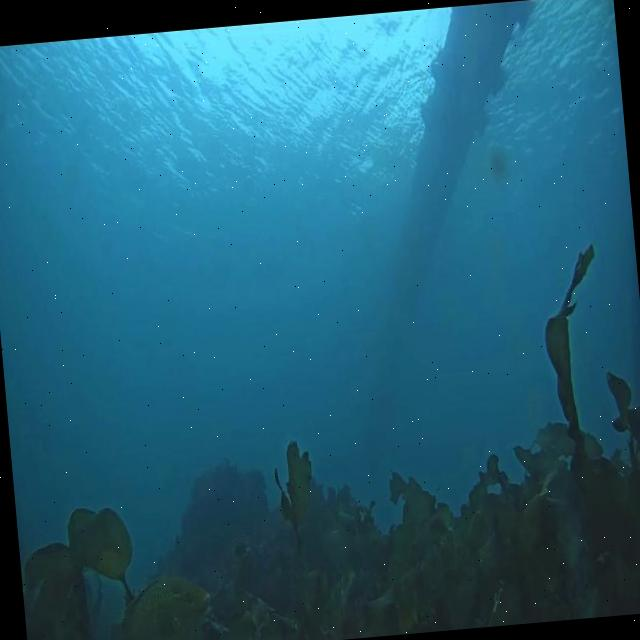fish: (111, 569, 214, 640)
